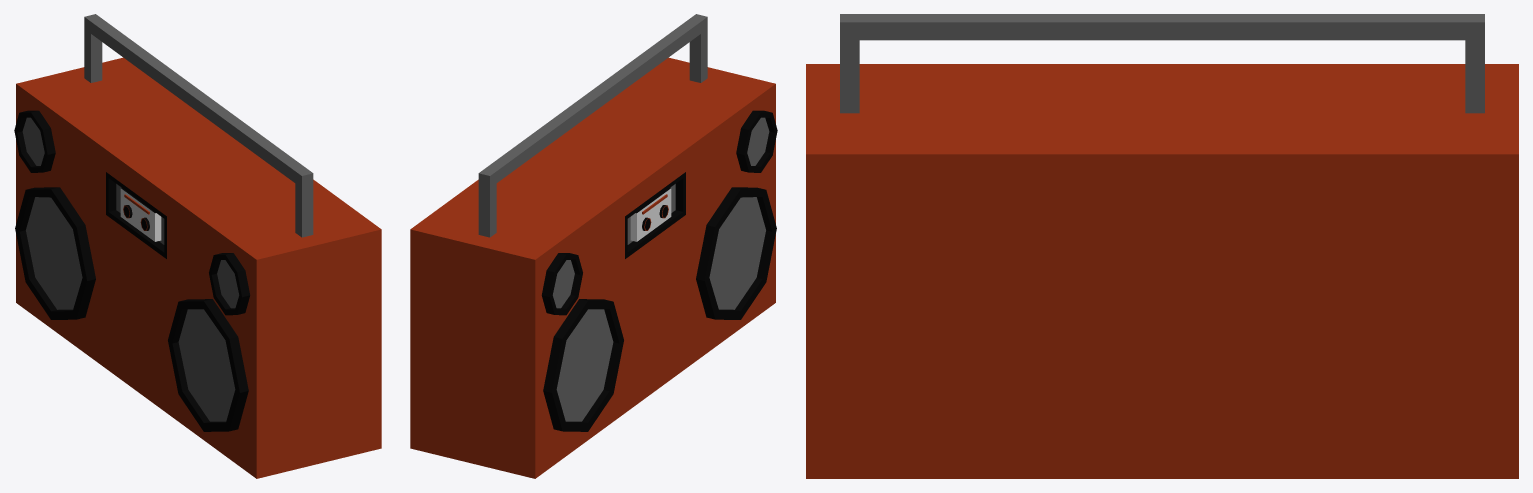
The model's file is recorder.gltf.
3 renders of one model, left to right at view 1: azimuth 30°, elevation 25°; view 2: azimuth 150°, elevation 25°; view 3: azimuth 270°, elevation 25°, orthographic. The views are drawn at different scales.
Visible parts, largest first — view 1: Cube; view 2: Cube; view 3: Cube.
Part boxes in pixels (x1,y1,x2,y2): Cube: (14,14,381,478); Cube: (410,14,777,478); Cube: (806,14,1518,478).
Bounding box in the file's own units: 1.28 × 2.56 × 3.98.
